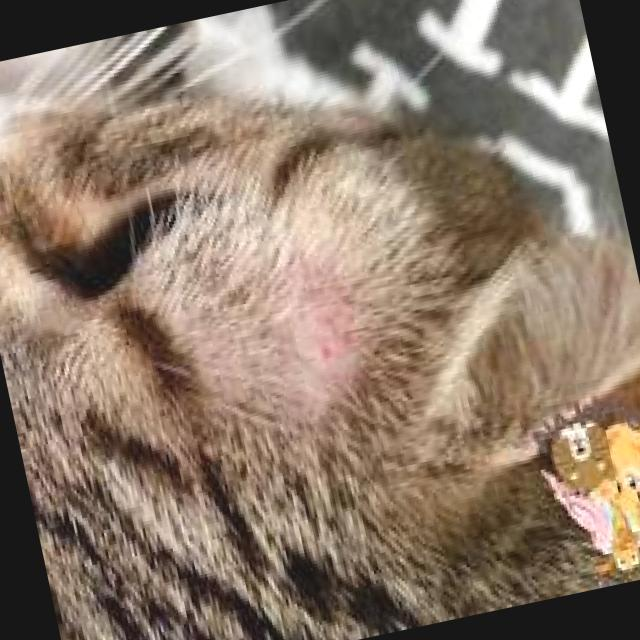cat-hairloss: (290, 302, 355, 387)
